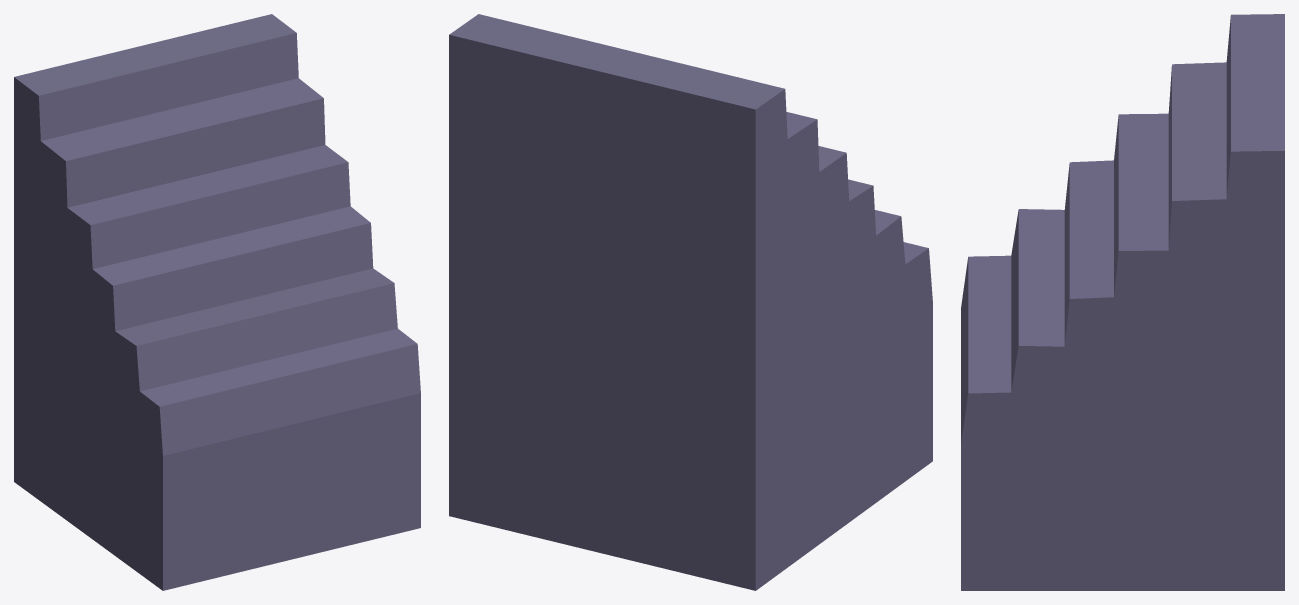
Rendered from b_stairs_ypos.fbx.
3 renders of one model, left to right at view 1: azimuth 30°, elevation 25°; view 2: azimuth 150°, elevation 25°; view 3: azimuth 270°, elevation 25°, orthographic. The views are drawn at different scales.
Visible parts, largest first — view 1: Cube.031; view 2: Cube.031; view 3: Cube.031.
Part boxes in pixels (x1,y1,x2,y2): Cube.031: (14,14,420,590); Cube.031: (449,14,932,590); Cube.031: (961,14,1284,590).
Size of the model in its own units: 200 by 300 by 200.
